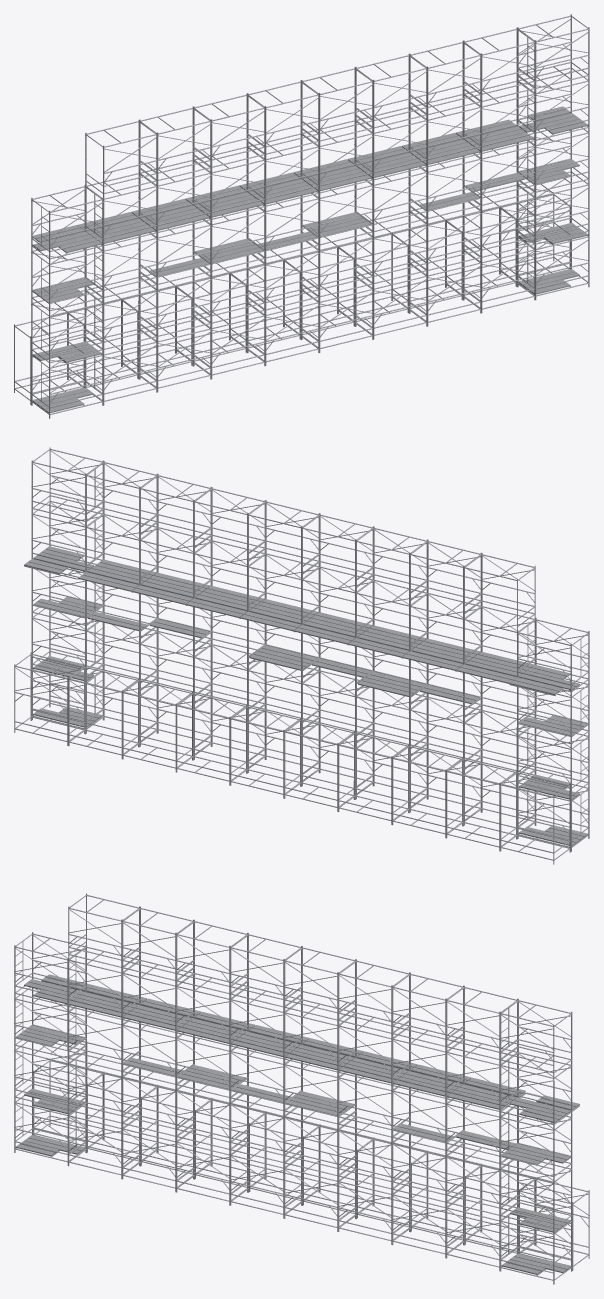
The model's file is Scaffold only.fbx.
The picture shows the model from 3 angles, top to bottom: view 1: azimuth 30°, elevation 25°; view 2: azimuth 150°, elevation 25°; view 3: azimuth 330°, elevation 25°; orthographic projection.
Parts seen in each view (by area): view 1: _gltfNode_140_001.009; view 2: _gltfNode_140_001.009; view 3: _gltfNode_140_001.009.
Part boxes in pixels (x1,y1,x2,y2): _gltfNode_140_001.009: (14,14,589,418); _gltfNode_140_001.009: (14,447,589,864); _gltfNode_140_001.009: (14,893,589,1284).
Bounding box in the file's own units: 2751 × 1264 × 326.
Materials: 1 (1 with a texture image).
